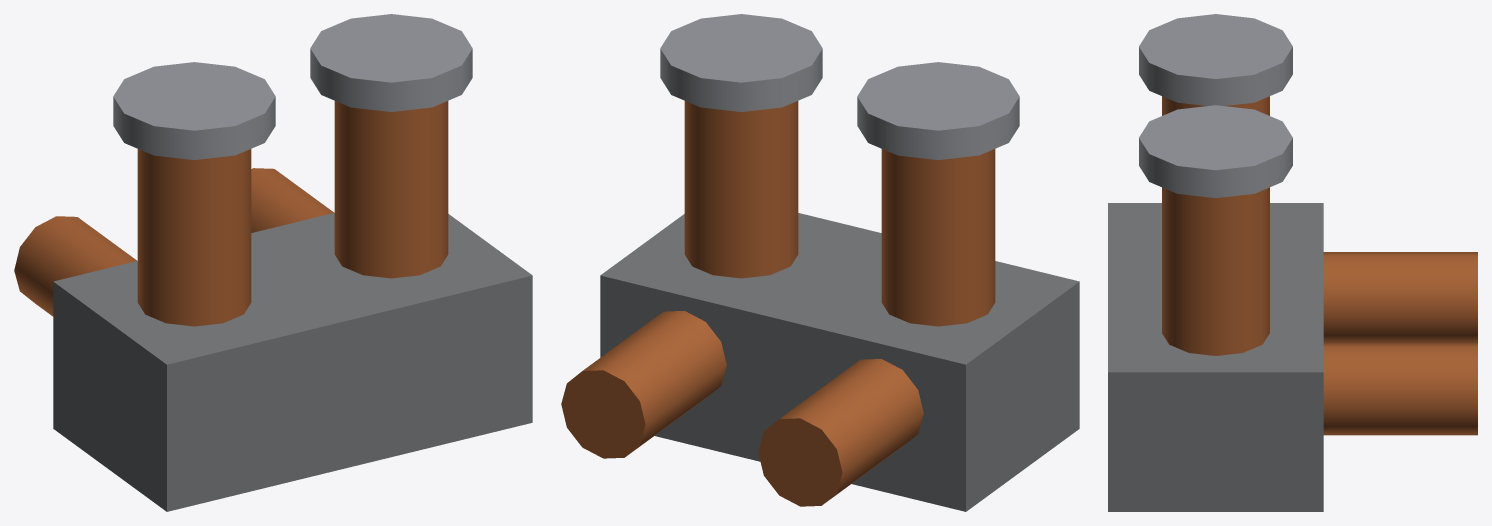
The model's file is sr150_emergency_coolant.obj.
3 views of the same model, side by side, from view 1: azimuth 30°, elevation 25°; view 2: azimuth 150°, elevation 25°; view 3: azimuth 270°, elevation 25° (orthographic). The views are drawn at different scales.
Parts seen in each view (by area): view 1: sr150_emergency_coolant; view 2: sr150_emergency_coolant; view 3: sr150_emergency_coolant.
Part boxes in pixels (<box>): sr150_emergency_coolant: <box>14,14,532,511</box>; sr150_emergency_coolant: <box>561,14,1079,511</box>; sr150_emergency_coolant: <box>1108,14,1477,511</box>.
Bounding box in the file's own units: 0.26 × 0.24 × 0.24.
